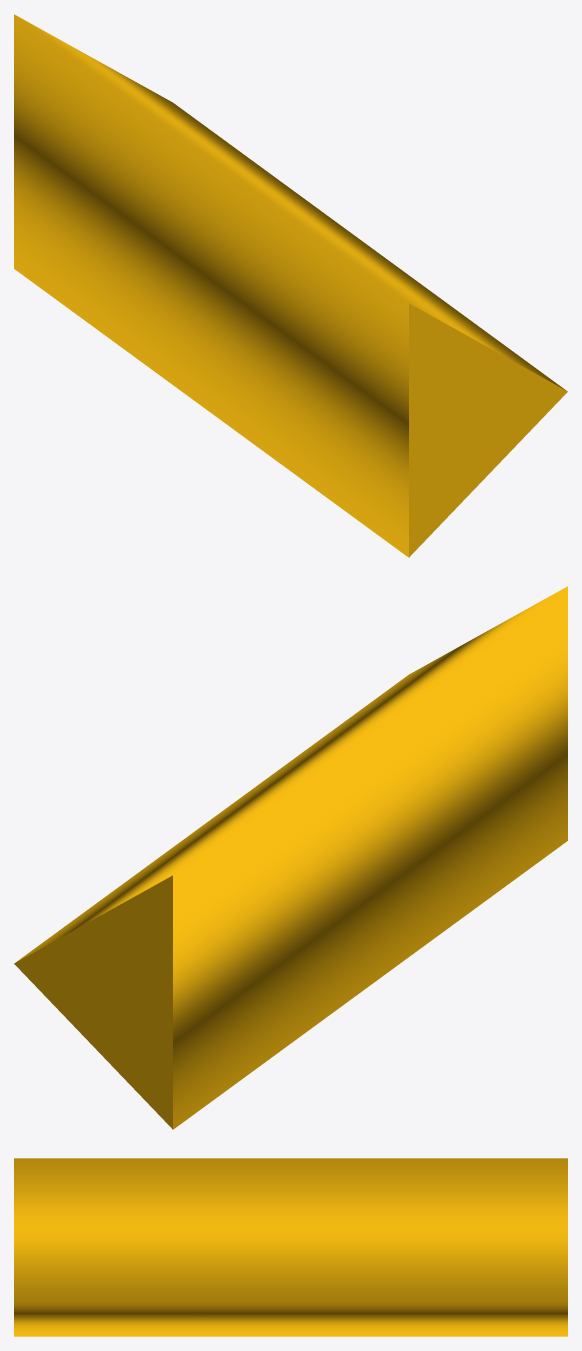
File: 32_efad8317.glb
3 renders of one model, top to bottom at view 1: azimuth 30°, elevation 25°; view 2: azimuth 150°, elevation 25°; view 3: azimuth 270°, elevation 25°, orthographic. The views are drawn at different scales.
Visible parts, largest first — view 1: Curve; view 2: Curve; view 3: Curve.
Part boxes in pixels (x1,y1,x2,y2): Curve: [14, 14, 567, 557]; Curve: [14, 586, 567, 1129]; Curve: [14, 1158, 567, 1336].
Size of the model in its own units: 0.00698 by 0.0107 by 0.03.
